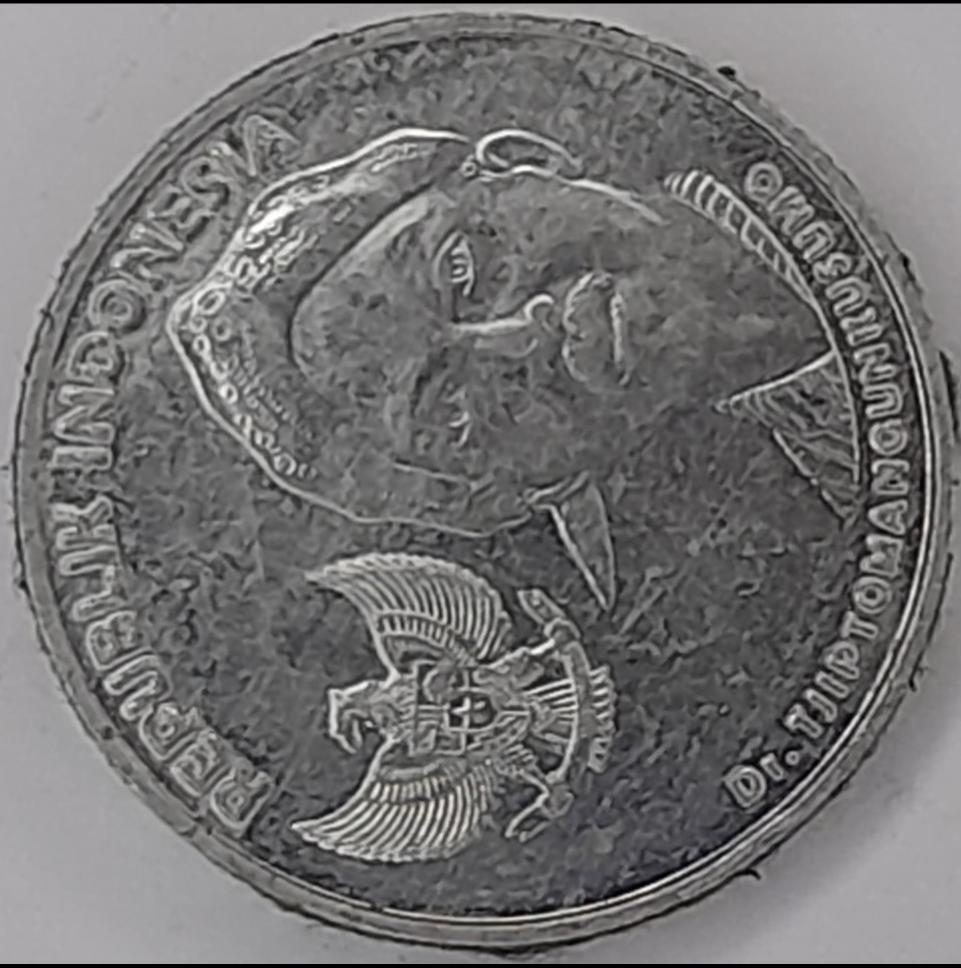coin_200_e2016: (0, 17, 961, 968)
